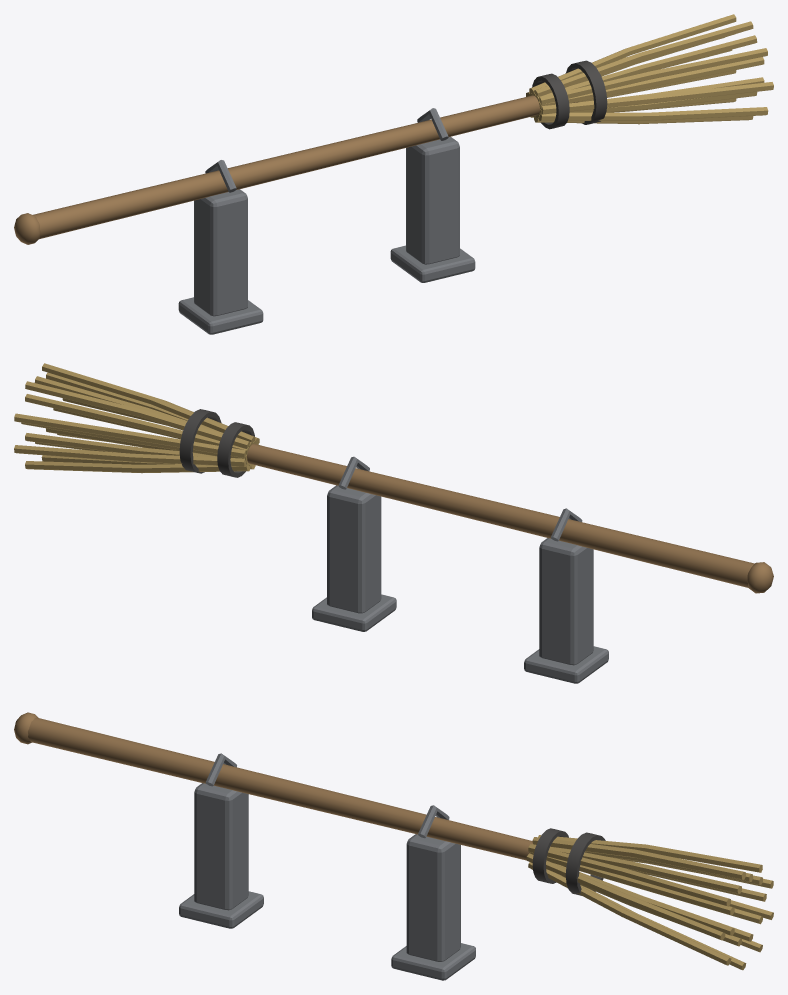
File: wing_broom.fbx
3 views of the same model, one above another, from view 1: azimuth 30°, elevation 25°; view 2: azimuth 150°, elevation 25°; view 3: azimuth 330°, elevation 25° (orthographic).
Visible parts, largest first — view 1: gun_1, straw_1, wood_1, iron_1; view 2: gun_1, straw_1, wood_1, iron_1; view 3: gun_1, straw_1, wood_1, iron_1.
Boxes of the visible parts, x1,y1,x2,y2 form: gun_1: (178,108,475,334); straw_1: (526,14,773,124); wood_1: (14,95,578,244); iron_1: (532,60,607,129); gun_1: (312,456,608,683); straw_1: (14,363,259,473); wood_1: (247,444,773,593); iron_1: (179,409,254,477); gun_1: (179,753,475,980); straw_1: (526,835,773,970); wood_1: (14,712,565,866); iron_1: (532,828,605,895).
Bounding box in the file's own units: 0.1719 × 0.0386 × 0.0216.
